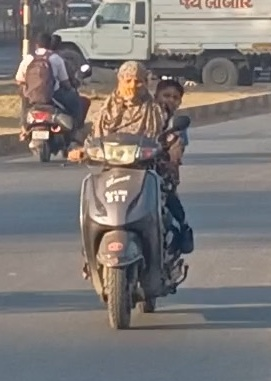BikeWithRider: (60, 47, 218, 335), (11, 29, 97, 178)
NoHelmet: (112, 55, 149, 102), (153, 72, 185, 120)
